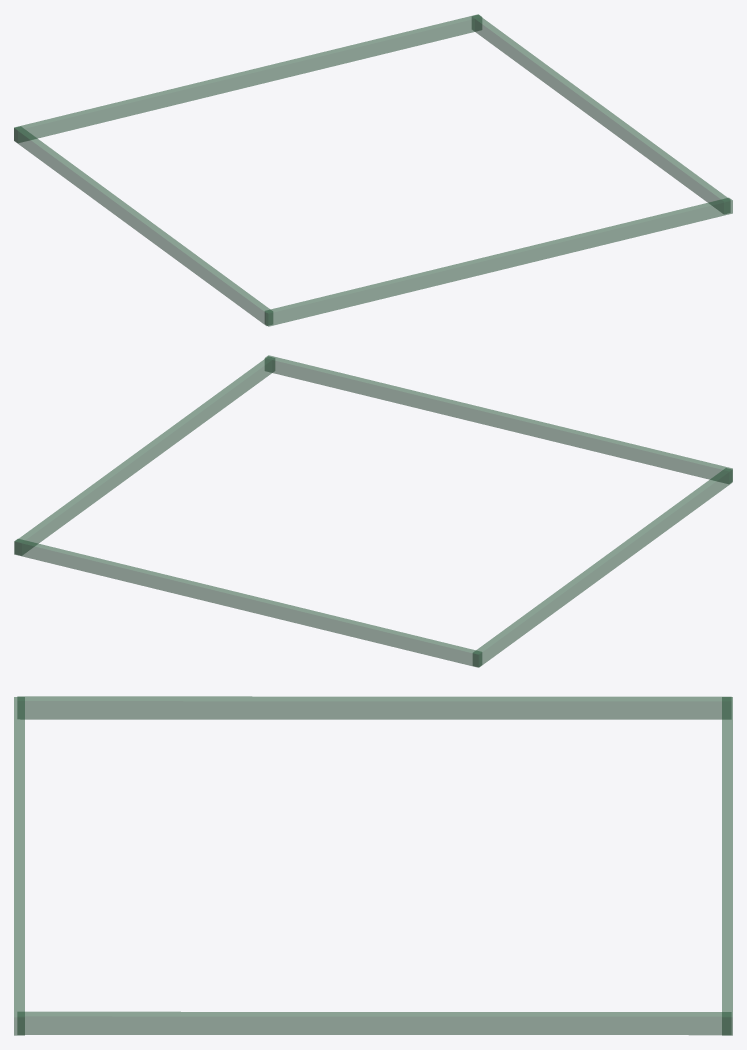
File: green-boundry.glb
3 views of the same model, one above another, from view 1: azimuth 30°, elevation 25°; view 2: azimuth 150°, elevation 25°; view 3: azimuth 270°, elevation 25° (orthographic). The views are drawn at different scales.
Parts seen in each view (by area): view 1: Box (×4); view 2: Box (×4); view 3: Box (×4).
Part boxes in pixels (x1,y1,x2,y2): Box (×4): [14, 14, 732, 326]; Box (×4): [14, 355, 732, 667]; Box (×4): [14, 696, 732, 1035].
Size of the model in its own units: 10.79 by 0.2888 by 10.22.
